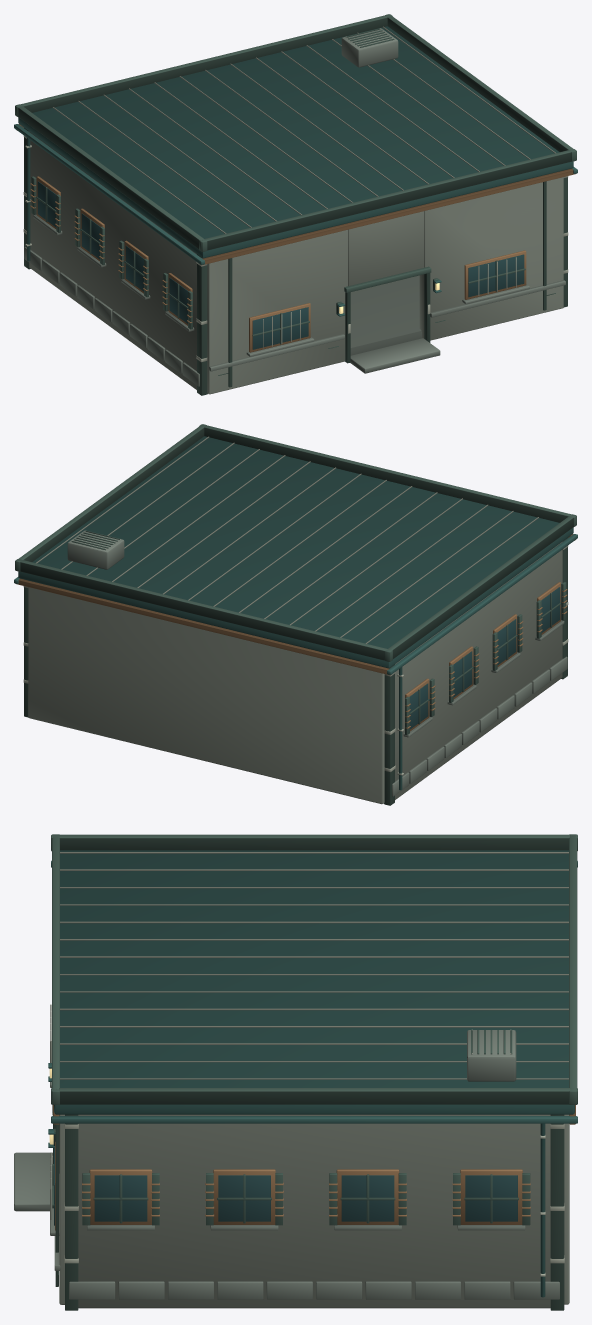
Rendered from kf-prison.glb.
The picture shows the model from 3 angles, top to bottom: view 1: azimuth 30°, elevation 25°; view 2: azimuth 150°, elevation 25°; view 3: azimuth 270°, elevation 25°; orthographic projection. The views are drawn at different scales.
Visible parts, largest first — view 1: Roof Roof metal, Shell Painted plaster, RoofDetail Timber trim, Shell Foundation, Shell Timber trim, Shell Warm wood, Shell Window glass, RoofDetail Brushed hardware, Shell Roof metal, RoofDetail Foundation, Shell Brushed hardware; view 2: Shell Painted plaster, Roof Roof metal, RoofDetail Timber trim, RoofDetail Brushed hardware, Shell Timber trim, Shell Warm wood, Shell Foundation, Shell Window glass, Shell Roof metal, RoofDetail Foundation; view 3: Roof Roof metal, Shell Painted plaster, RoofDetail Timber trim, RoofDetail Brushed hardware, Shell Foundation, Shell Timber trim, Shell Window glass, Shell Warm wood, Shell Roof metal, RoofDetail Foundation, Shell Brushed hardware.
Boxes of the visible parts, <box> form: Roof Roof metal: <box>18,26,573,258</box>; Shell Painted plaster: <box>29,131,563,394</box>; RoofDetail Timber trim: <box>15,14,576,251</box>; Shell Foundation: <box>24,214,565,393</box>; Shell Timber trim: <box>24,128,567,395</box>; Shell Warm wood: <box>17,124,575,352</box>; Shell Window glass: <box>37,181,524,349</box>; RoofDetail Brushed hardware: <box>52,26,555,233</box>; Shell Roof metal: <box>14,124,577,316</box>; RoofDetail Foundation: <box>341,28,398,67</box>; Shell Brushed hardware: <box>23,135,568,362</box>; Shell Painted plaster: <box>28,541,562,804</box>; Roof Roof metal: <box>18,436,573,668</box>; RoofDetail Timber trim: <box>15,424,576,661</box>; RoofDetail Brushed hardware: <box>36,436,538,643</box>; Shell Timber trim: <box>24,538,567,805</box>; Shell Warm wood: <box>16,534,574,731</box>; Shell Foundation: <box>384,620,567,803</box>; Shell Window glass: <box>409,587,560,729</box>; Shell Roof metal: <box>14,534,577,790</box>; RoofDetail Foundation: <box>67,530,124,569</box>; Roof Roof metal: <box>54,850,574,1114</box>; Shell Painted plaster: <box>59,1114,569,1308</box>; RoofDetail Timber trim: <box>51,834,577,1104</box>; RoofDetail Brushed hardware: <box>60,852,568,1079</box>; Shell Foundation: <box>14,1041,559,1299</box>; Shell Timber trim: <box>52,1105,564,1310</box>; Shell Window glass: <box>54,1146,517,1225</box>; Shell Warm wood: <box>53,1105,575,1230</box>; Shell Roof metal: <box>48,860,577,1297</box>; RoofDetail Foundation: <box>467,1030,516,1081</box>; Shell Brushed hardware: <box>50,1004,564,1276</box>.
Bounding box in the file's own units: 14.88 × 6.41 × 13.7.
